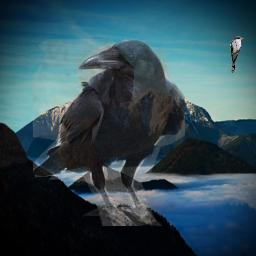Crow: (33, 39, 185, 226)
Cuckoo: (230, 36, 244, 73)
